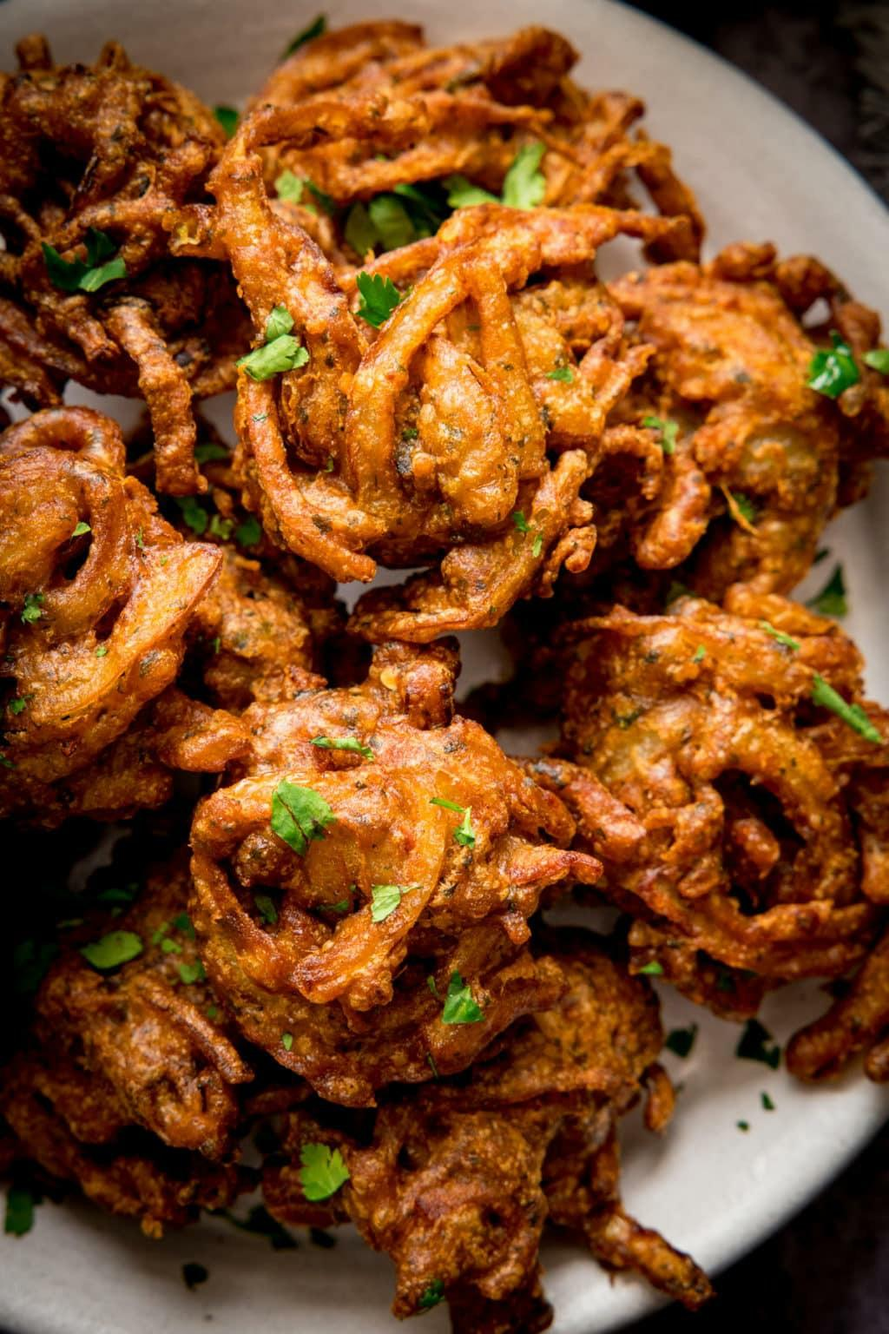OnionPakoda: (15, 0, 889, 1334)
